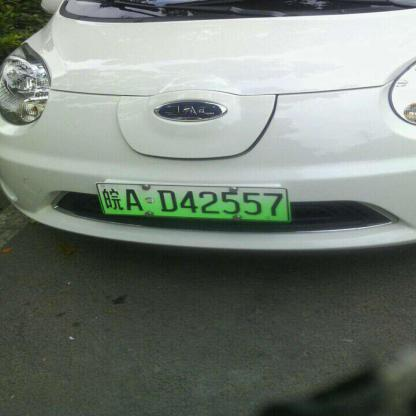lp: (98, 184, 288, 219)
